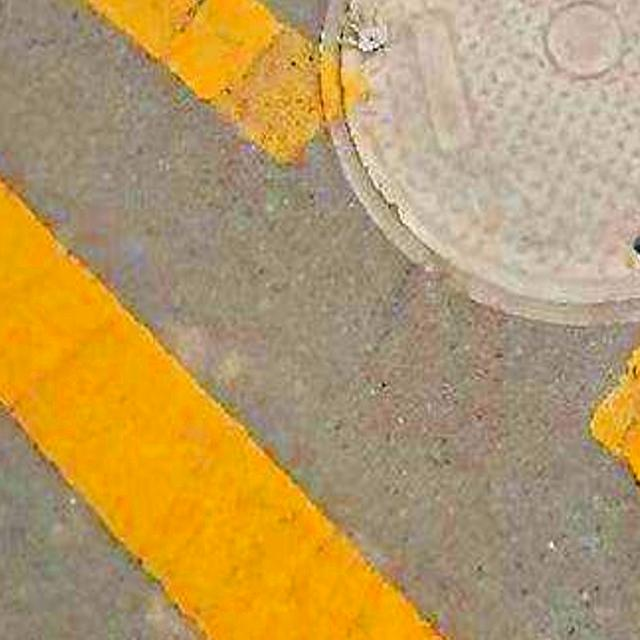broke: (321, 0, 640, 326)
